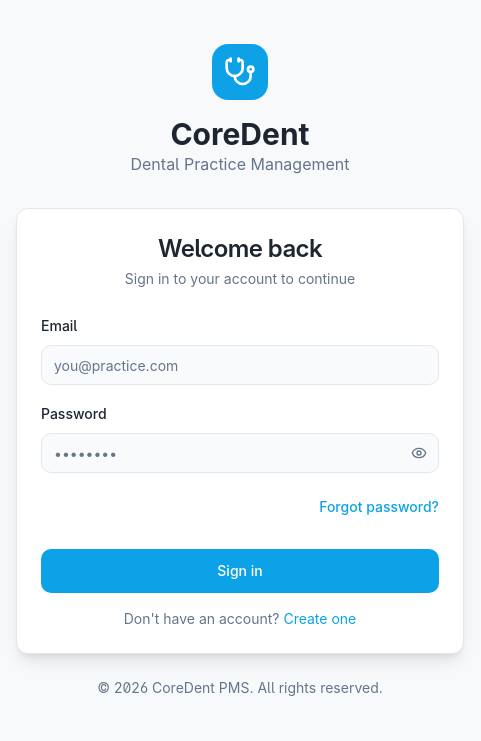
Test case: Login Page › shows validation errors for empty submit
Click the button "Sign in" at (240, 571), box [41,549,439,593]
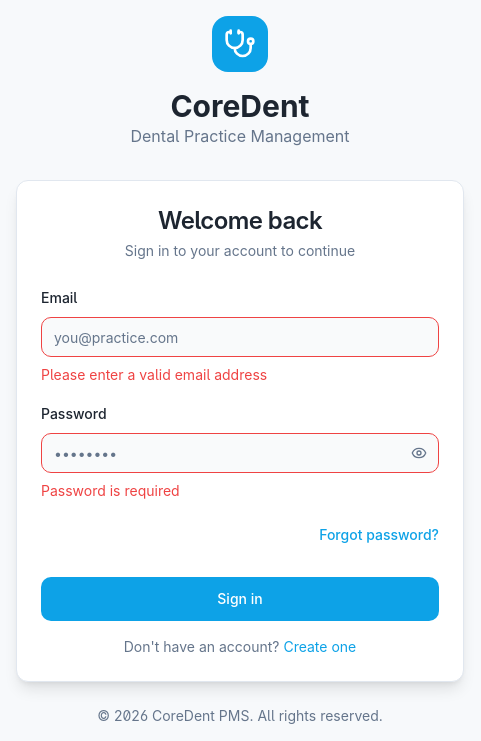
Expected: the text "Please enter a valid email address" is shown, [41,366,267,383]
Expected: the text "Password is required" is shown, [41,482,180,499]
